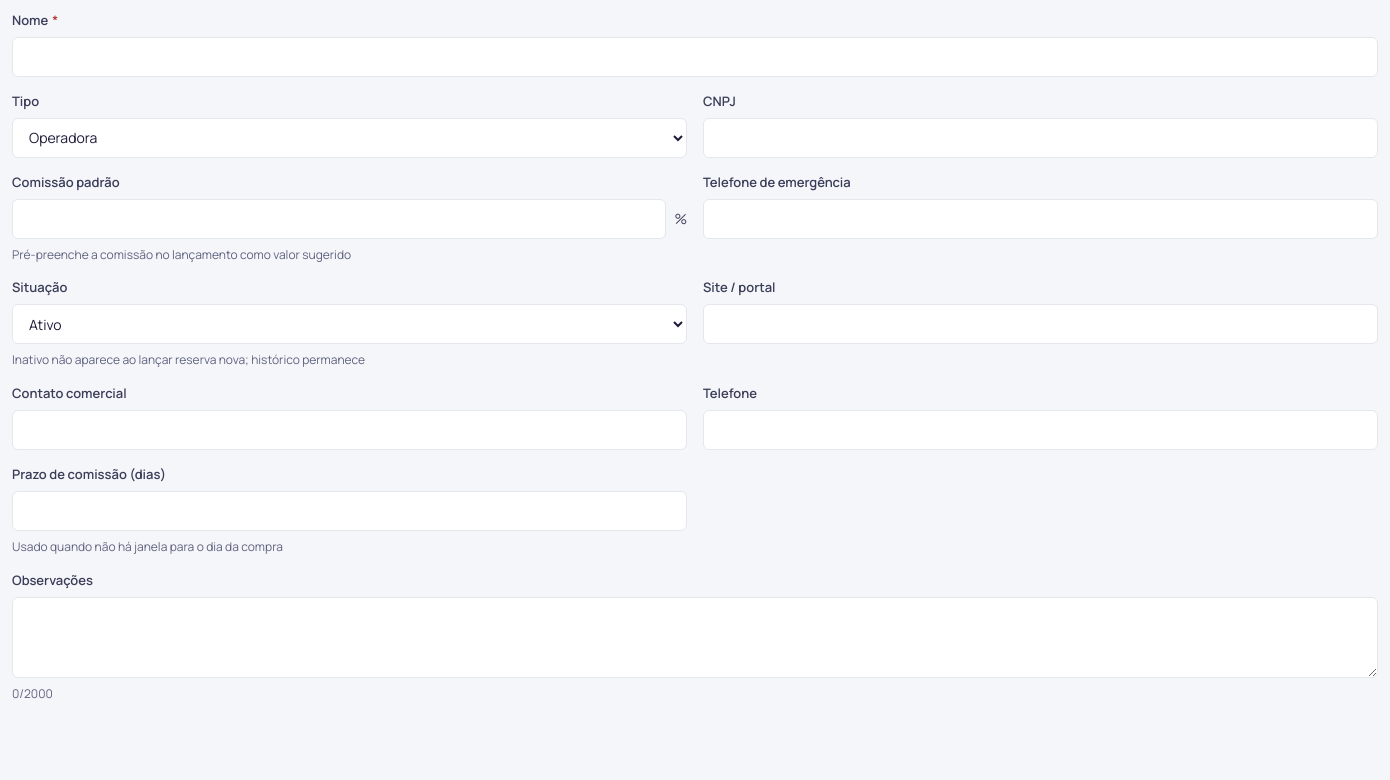
Scenario: CNPJ com dígito verificador inválido mostra erro local
The width and height of the screenshot is (1390, 780).
In the field labelled "CNPJ": (1040, 138) [703, 118, 1378, 158], type "12.345.678/0001-00"
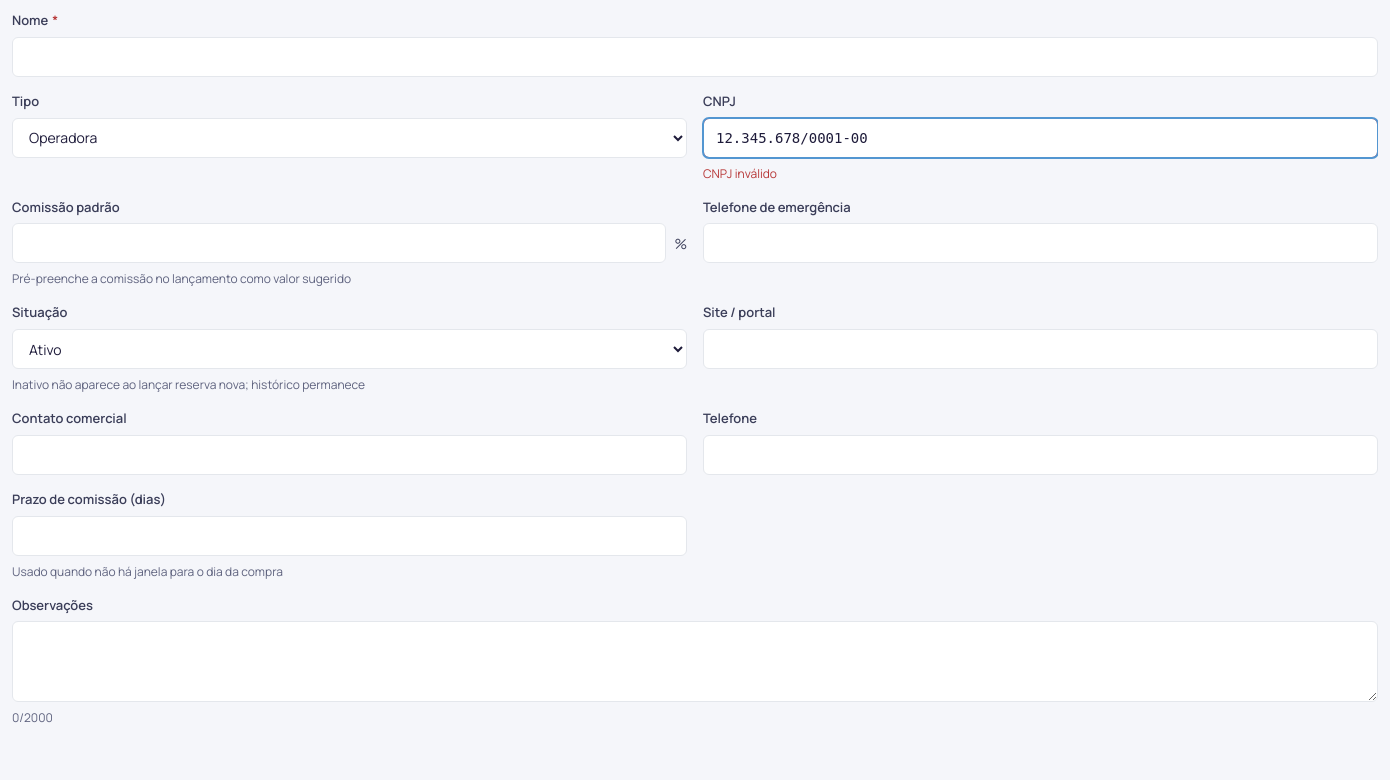
expect the text "CNPJ inválido" is shown: met, box [703, 165, 777, 182]
